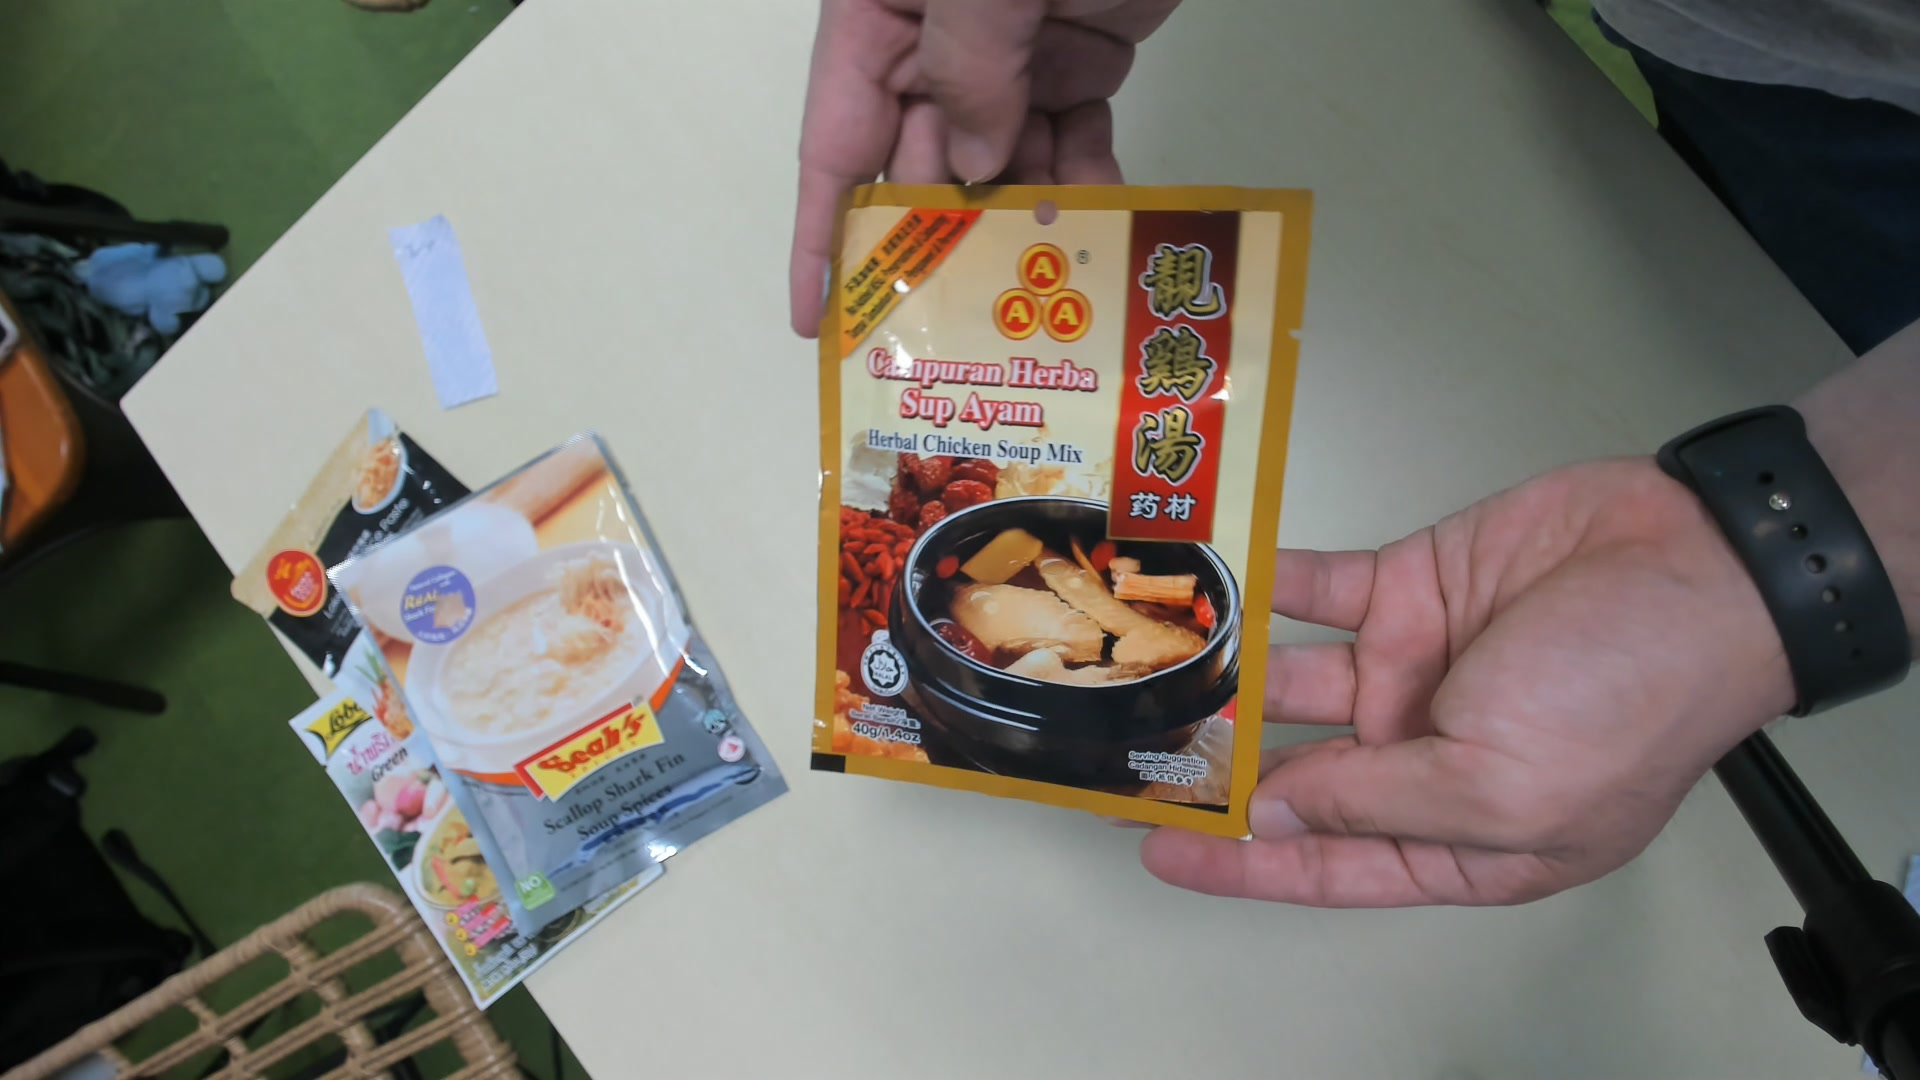OtherSauceDressing_0-99g_Halal_NonHealthy: (802, 170, 1335, 847)
